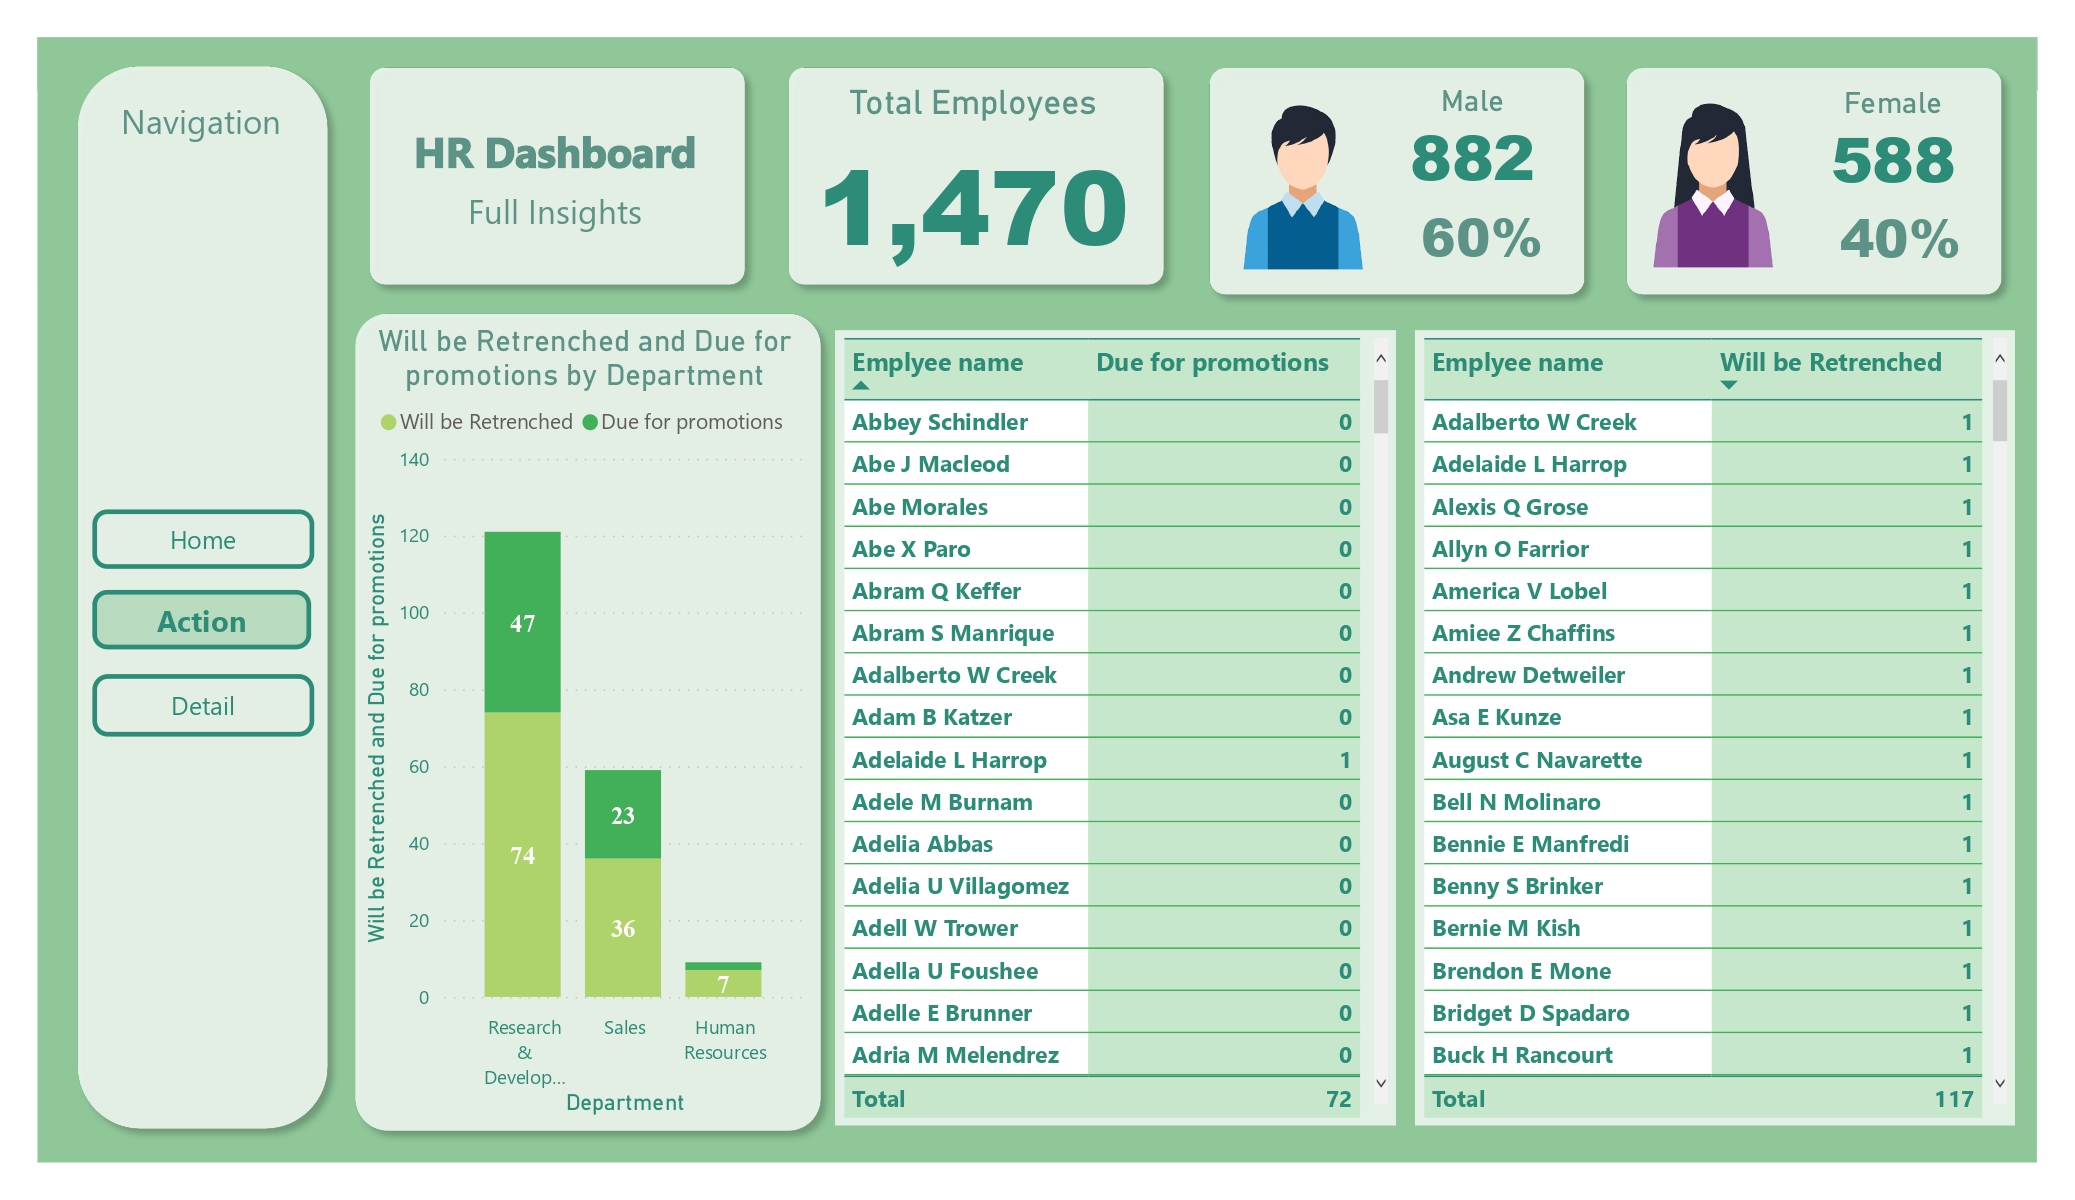

The dashboard page shown, as its layout file describes it:
{"tool":"powerbi","page":{"name":"Action","canvas":[1280,720],"ordinal":1},"visuals":[{"type":"shape","box":[16.1,9.9,178.3,698.2],"z":0},{"type":"shape","box":[203.7,10.5,257.6,156.9],"z":1000},{"type":"shape","box":[471.8,10.5,257.6,156.9],"z":2000},{"type":"shape","box":[741.1,10.5,257.6,162.7],"z":3000},{"type":"shape","box":[1008,10.5,257.6,162.7],"z":4000},{"type":"textbox","box":[215.4,49.2,231.8,51.5],"z":5000},{"type":"textbox","box":[215.4,91.3,231.8,44.5],"z":6000},{"type":"card","title":"Total Employees","fields":{"Values":["All Measures.Total Emp"]},"box":[484.7,29.3,228.3,124.1],"z":7000},{"type":"card","title":"Male","fields":{"Values":["All Measures.Male"]},"box":[853.5,29.3,130,71.4],"z":8000},{"type":"card","title":"Male","fields":{"Values":["All Measures.% male"]},"box":[869.9,100.7,108.9,52.7],"z":9000},{"type":"card","title":"Female","fields":{"Values":["All Measures.Female"]},"box":[1122.9,30.8,130,71.4],"z":10000},{"type":"card","title":"Male","fields":{"Values":["All Measures.% female"]},"box":[1136.8,100.7,111.2,53.9],"z":11000},{"type":"image","box":[749.3,34,120.6,120.6],"z":12000},{"type":"image","box":[1019.7,34,103,119.4],"z":13000},{"type":"tableEx","fields":{"Values":["HR Analytics Data.Emplyee name","All Measures.Due for promotions"]},"box":[540.9,178,344.2,517.5],"z":14000},{"type":"tableEx","fields":{"Values":["HR Analytics Data.Emplyee name","All Measures.Will be Retrenched"]},"box":[906.1,178,346.5,517.5],"z":15000},{"type":"textbox","box":[34,34,141.7,41],"z":16000},{"type":"actionButton","box":[34.7,302.1,142.4,38.4],"z":17000},{"type":"actionButton","box":[34.7,354,139.9,38.4],"z":18000},{"type":"actionButton","box":[34.7,407.3,142.4,39.6],"z":19000},{"type":"shape","box":[203.7,163.9,314.9,540.9],"z":19001},{"type":"columnChart","fields":{"Category":["HR Analytics Data.Department"],"Y":["All Measures.Will be Retrenched","All Measures.Due for promotions"]},"box":[210.7,178,307.9,512.8],"z":19002}]}

Visuals, with their boxes on the page's 1280x720 design canvas (x1, y1, x2, y2). These are canvas units, not pixel positions in the 2075x1200 screenshot, which may show the page scaled, cropped or inside an application window:
shape: (x1=16, y1=10, x2=194, y2=708)
shape: (x1=204, y1=10, x2=461, y2=167)
shape: (x1=472, y1=10, x2=729, y2=167)
shape: (x1=741, y1=10, x2=999, y2=173)
shape: (x1=1008, y1=10, x2=1266, y2=173)
textbox: (x1=215, y1=49, x2=447, y2=101)
textbox: (x1=215, y1=91, x2=447, y2=136)
"Total Employees" card: (x1=485, y1=29, x2=713, y2=153)
"Male" card: (x1=854, y1=29, x2=984, y2=101)
"Male" card: (x1=870, y1=101, x2=979, y2=153)
"Female" card: (x1=1123, y1=31, x2=1253, y2=102)
"Male" card: (x1=1137, y1=101, x2=1248, y2=155)
image: (x1=749, y1=34, x2=870, y2=155)
image: (x1=1020, y1=34, x2=1123, y2=153)
tableEx - HR Analytics Data.Emplyee name x All Measures.Due for promotions: (x1=541, y1=178, x2=885, y2=696)
tableEx - HR Analytics Data.Emplyee name x All Measures.Will be Retrenched: (x1=906, y1=178, x2=1253, y2=696)
textbox: (x1=34, y1=34, x2=176, y2=75)
actionButton: (x1=35, y1=302, x2=177, y2=340)
actionButton: (x1=35, y1=354, x2=175, y2=392)
actionButton: (x1=35, y1=407, x2=177, y2=447)
shape: (x1=204, y1=164, x2=519, y2=705)
columnChart - HR Analytics Data.Department x All Measures.Will be Retrenched: (x1=211, y1=178, x2=519, y2=691)
